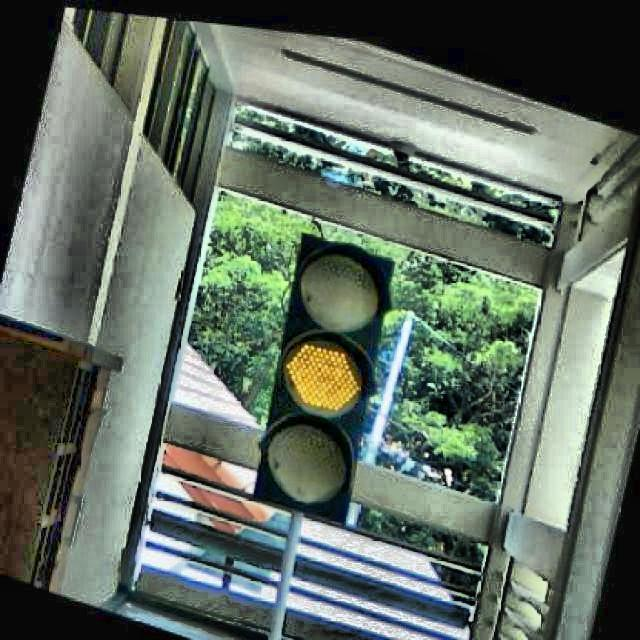yellow: (245, 237, 391, 522)
